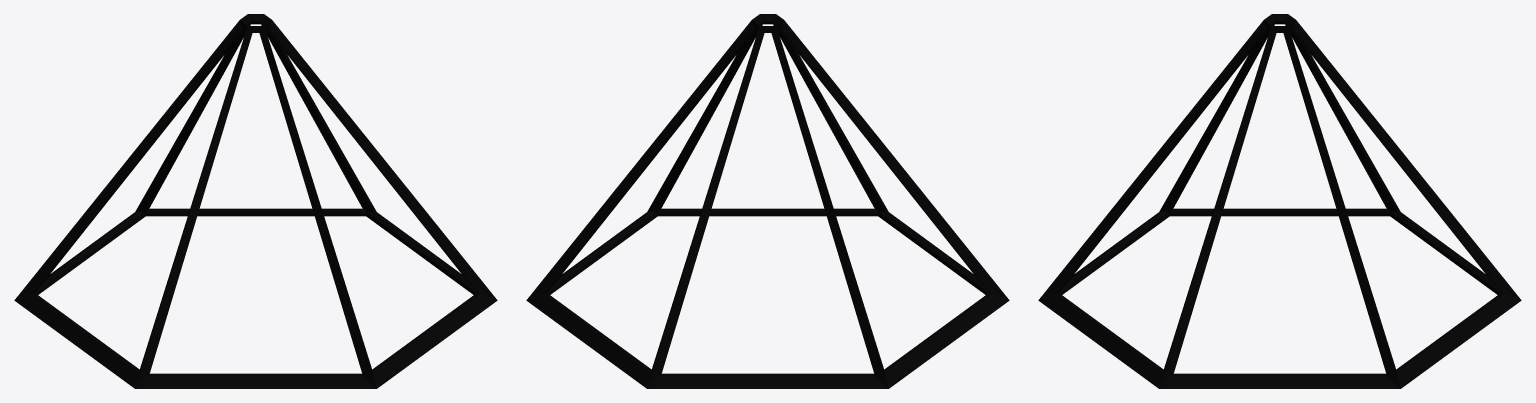
Rendered from construction.glb.
3 renders of one model, left to right at view 1: azimuth 30°, elevation 25°; view 2: azimuth 150°, elevation 25°; view 3: azimuth 270°, elevation 25°, orthographic.
Parts seen in each view (by area): view 1: Cylinder.001; view 2: Cylinder.001; view 3: Cylinder.001.
Boxes of the visible parts, bbox=[...] form: Cylinder.001: bbox=[14, 14, 497, 388]; Cylinder.001: bbox=[526, 14, 1009, 388]; Cylinder.001: bbox=[1038, 14, 1521, 388].
Bounding box in the file's own units: 0.9981 × 0.738 × 1.15.
Materials: 1 (1 with a texture image).
